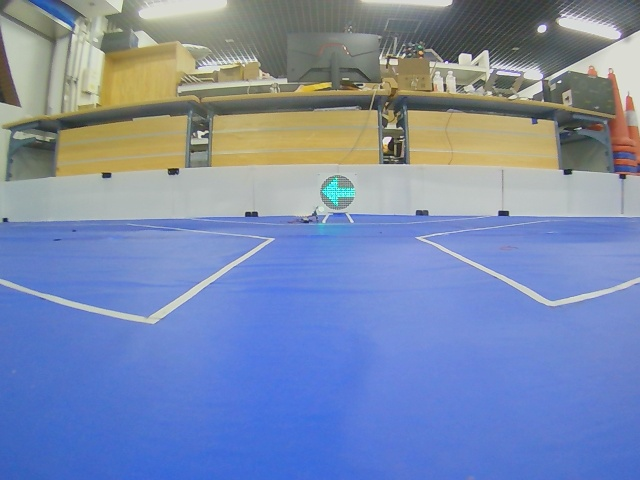left_green: (320, 175, 355, 210)
